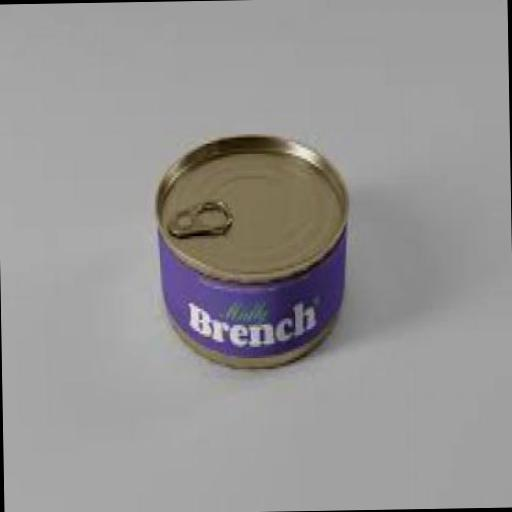metal: (152, 132, 348, 374)
